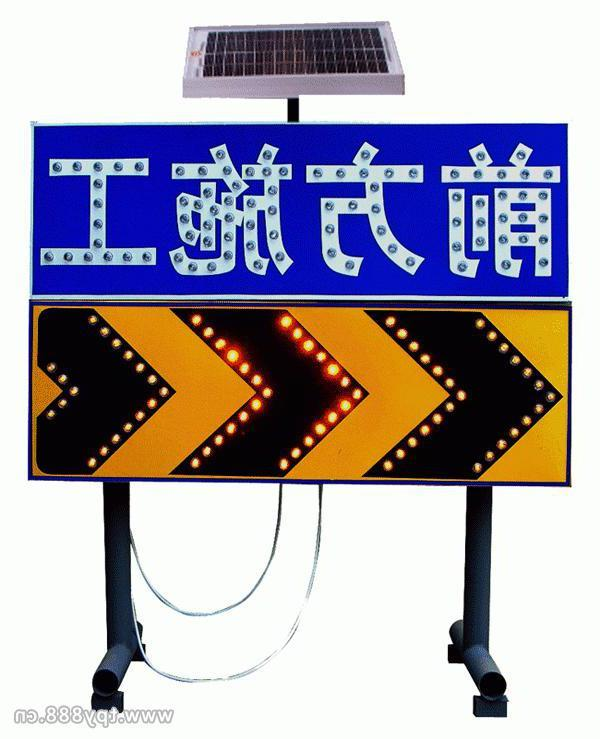sign: (32, 122, 571, 486)
